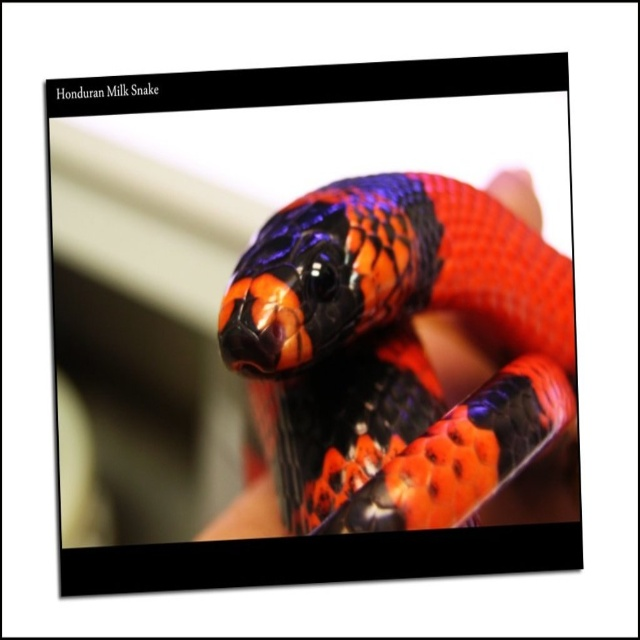Snake: (217, 173, 573, 530)
